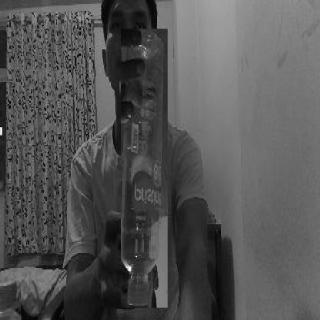plastic_bottles: (120, 29, 168, 308)
